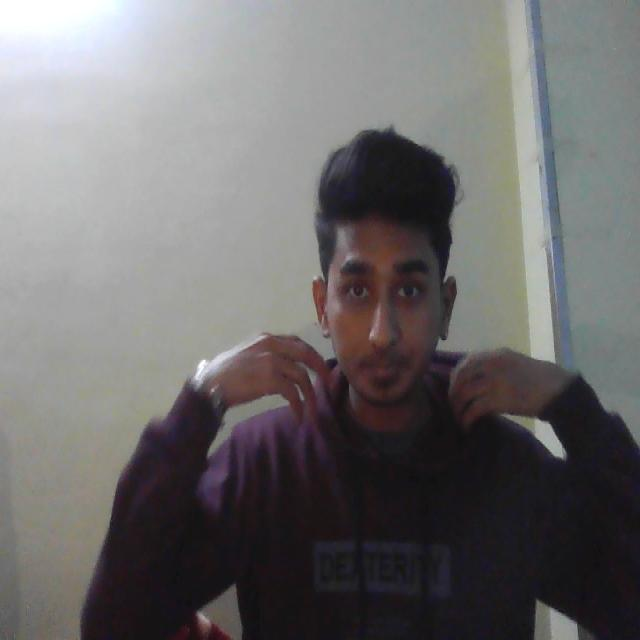real: (307, 138, 464, 434)
